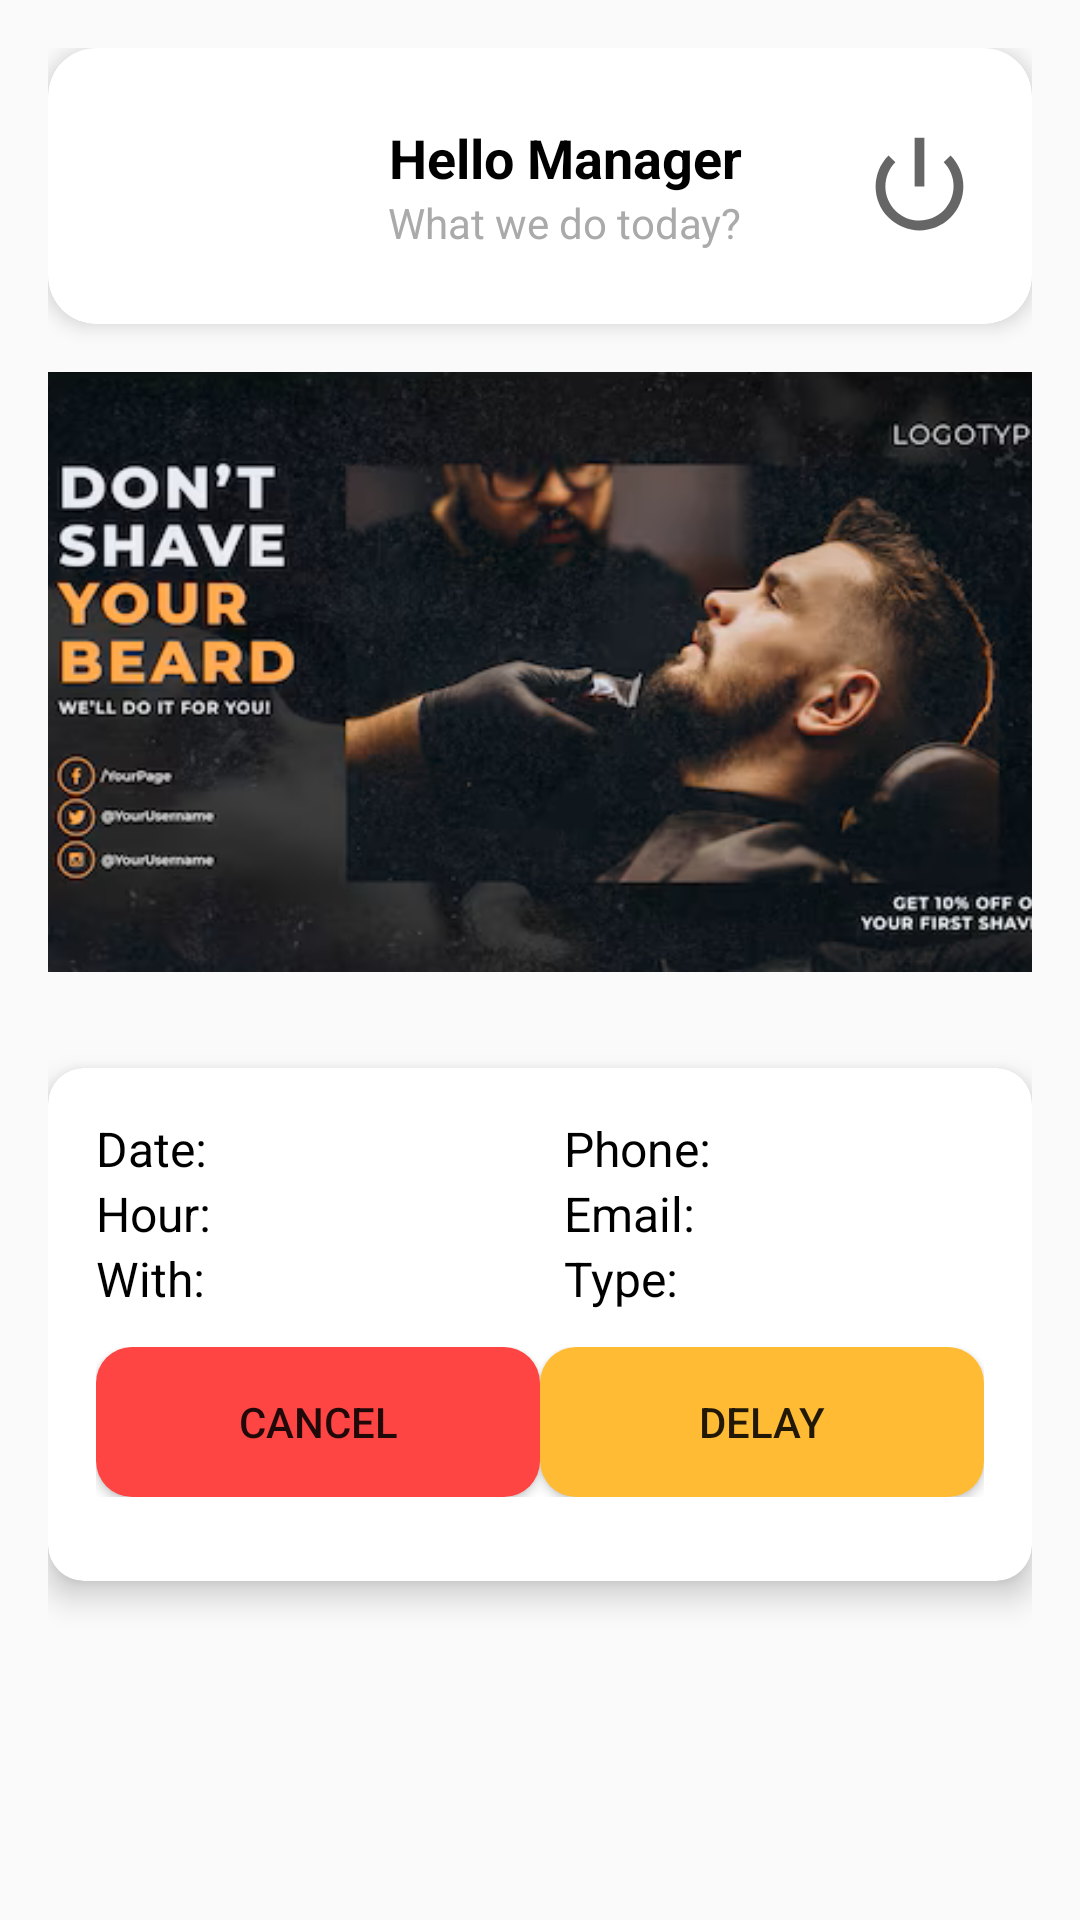

Icons on this 1080*1920 Android screen, each with its box as (x1, y1, x2, y2):
lock power off: (875, 137, 964, 231)
